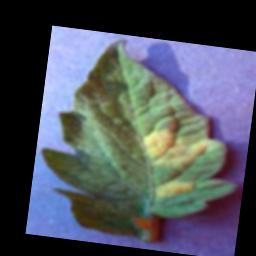Leaf_Mold: (137, 111, 217, 173), (154, 175, 196, 202)
